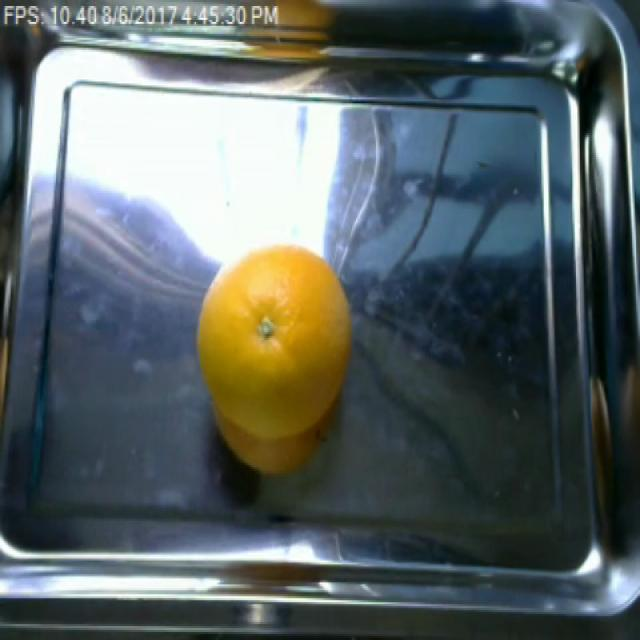Fruit: (189, 241, 359, 477), (256, 0, 344, 34)
